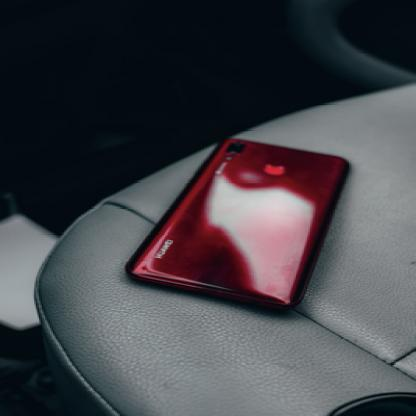cell-phone: (123, 119, 357, 324)
